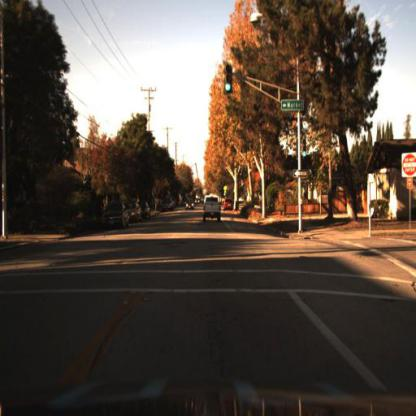car: (98, 198, 131, 235), (203, 190, 223, 228), (126, 200, 143, 229), (140, 199, 152, 225), (223, 197, 235, 215), (185, 199, 196, 216), (194, 196, 202, 208)
trafficLight-Green: (223, 68, 236, 107), (302, 146, 312, 161)
